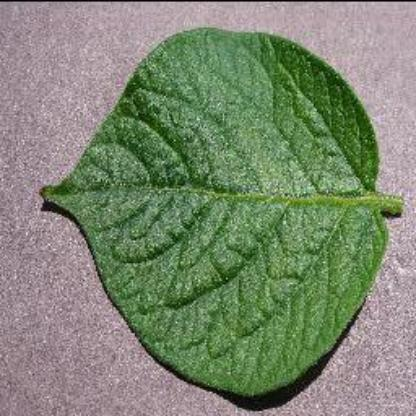Healthy-plant: (37, 23, 404, 403)
